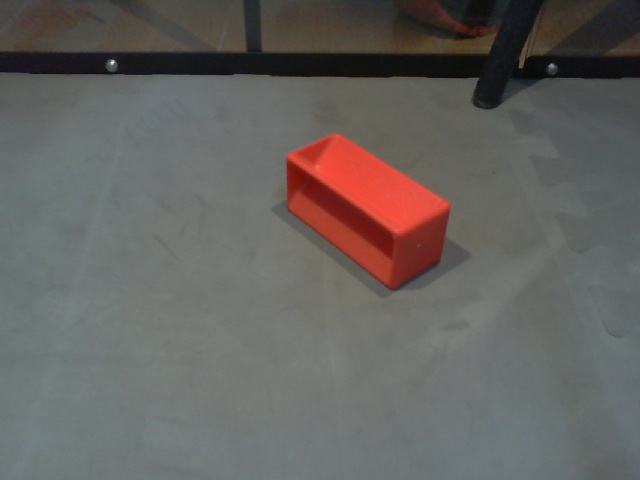RedSample: (283, 130, 453, 293)
